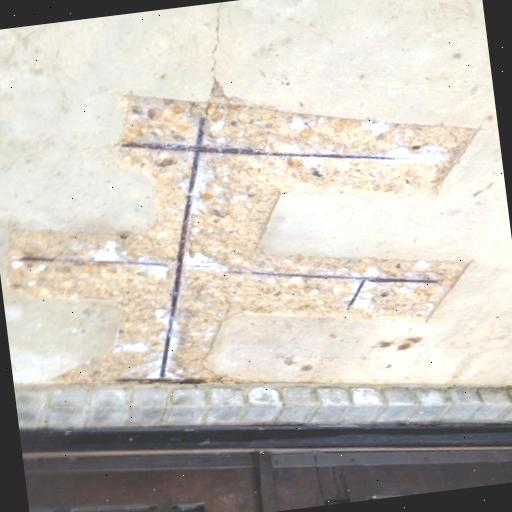spalling: (11, 99, 473, 385)
